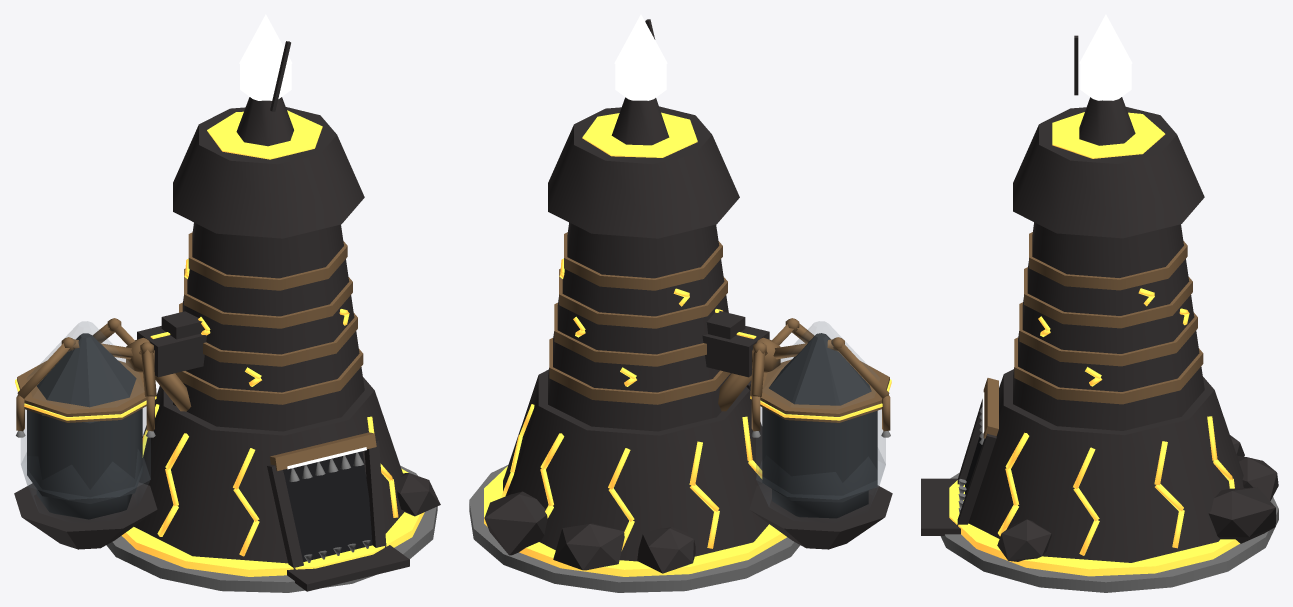
The model's file is EMBER_Vat_T1.glb.
3 renders of one model, left to right at view 1: azimuth 30°, elevation 25°; view 2: azimuth 150°, elevation 25°; view 3: azimuth 270°, elevation 25°, orthographic.
Visible parts, largest first — view 1: EMBER_Vat_T1; view 2: EMBER_Vat_T1; view 3: EMBER_Vat_T1.
Boxes of the visible parts, bbox=[...] form: EMBER_Vat_T1: bbox=[14, 14, 440, 592]; EMBER_Vat_T1: bbox=[469, 14, 892, 592]; EMBER_Vat_T1: bbox=[921, 14, 1278, 592].
Size of the model in its own units: 4.66 by 5.68 by 3.62.
